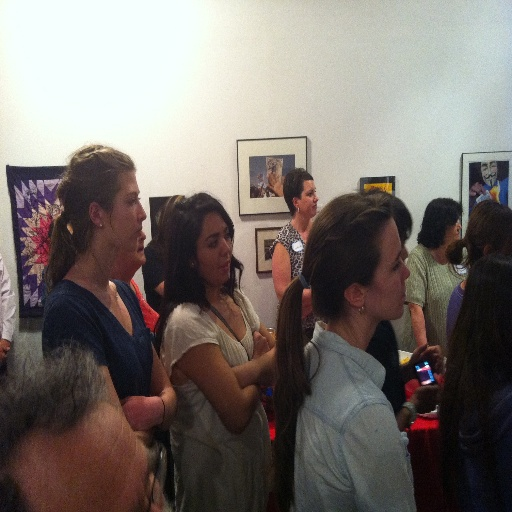hand: (125, 376, 167, 449), (409, 342, 445, 382), (410, 383, 442, 416), (250, 327, 269, 358), (0, 344, 10, 362)
